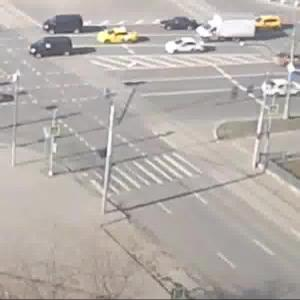car: (199, 17, 253, 47), (94, 27, 144, 48), (29, 37, 75, 58), (40, 16, 87, 34), (264, 78, 300, 98), (251, 13, 282, 34), (161, 15, 191, 32), (274, 55, 300, 72), (174, 41, 201, 55)
